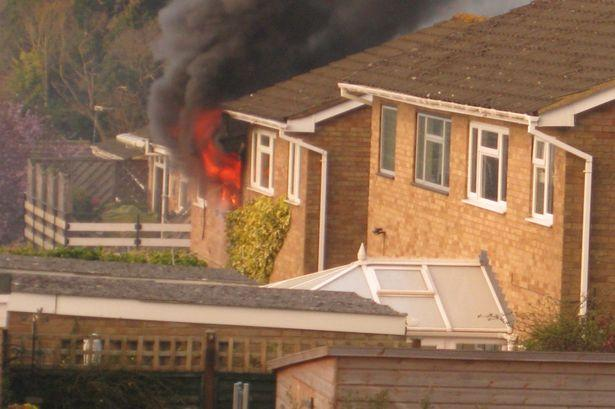fire: (195, 138, 248, 185)
smoke: (172, 5, 308, 65)
